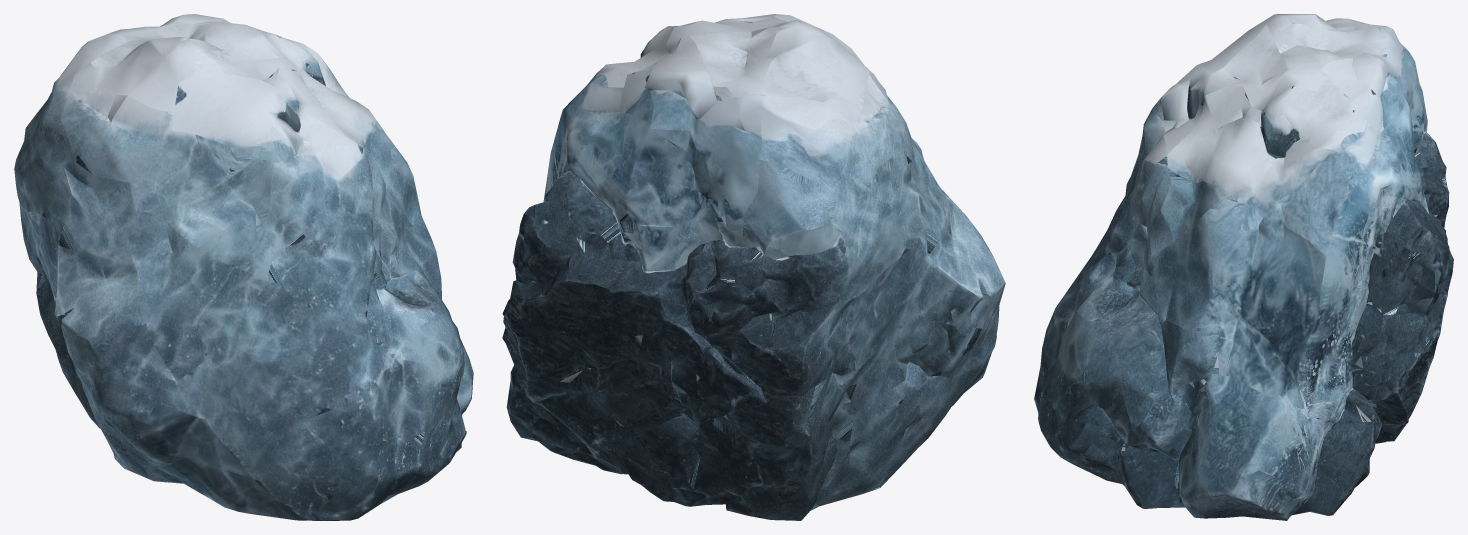
File: prop_icerock-high.glb
The picture shows the model from 3 angles, left to right: view 1: azimuth 30°, elevation 25°; view 2: azimuth 150°, elevation 25°; view 3: azimuth 270°, elevation 25°; orthographic projection. The views are drawn at different scales.
Parts seen in each view (by area): view 1: Mesh_0; view 2: Mesh_0; view 3: Mesh_0.
Boxes of the visible parts, left/top/right/bottom form: Mesh_0: left=14, top=14, right=473, bottom=520; Mesh_0: left=502, top=14, right=1005, bottom=520; Mesh_0: left=1034, top=14, right=1453, bottom=520.
Size of the model in its own units: 1.9 by 1.8 by 1.74.
Materials: 1 (1 with a texture image).
